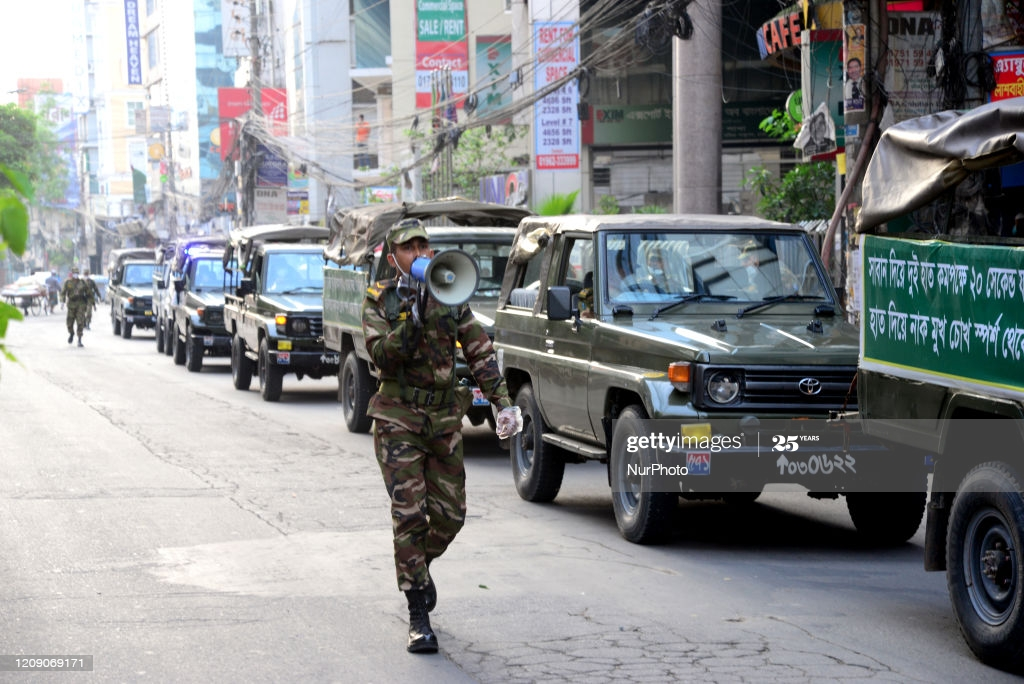army vehicle: (494, 211, 929, 549), (325, 196, 532, 433), (223, 223, 330, 402), (154, 236, 228, 371), (107, 247, 159, 341)
wheelbarrow: (3, 278, 54, 320)
